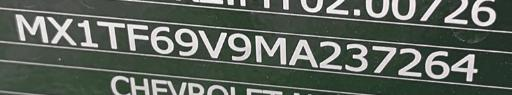letter: (12, 11, 48, 45), (252, 33, 286, 68), (286, 37, 318, 70), (47, 13, 77, 47), (197, 27, 227, 60), (423, 48, 451, 83), (451, 51, 479, 84), (97, 19, 125, 52), (396, 46, 424, 79), (343, 41, 369, 74), (370, 43, 396, 76), (174, 27, 200, 58), (316, 40, 342, 71), (125, 20, 149, 53), (227, 31, 251, 64), (147, 26, 173, 55), (76, 17, 98, 50)
